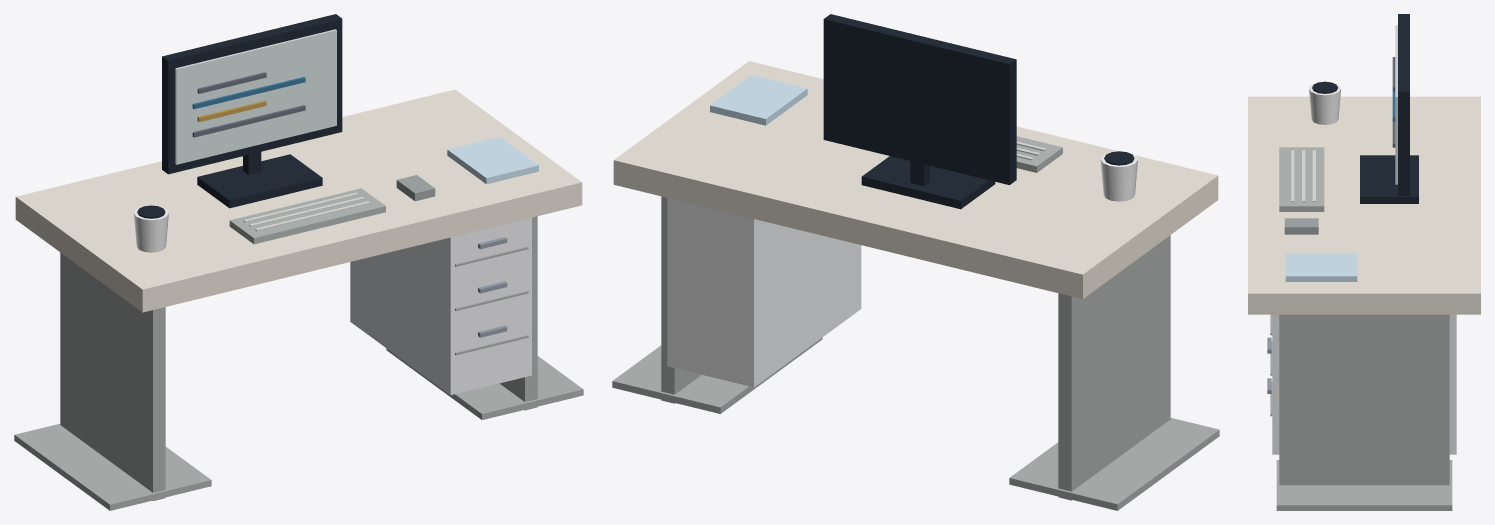
Rendered from desk.gltf.
3 renders of one model, left to right at view 1: azimuth 30°, elevation 25°; view 2: azimuth 150°, elevation 25°; view 3: azimuth 270°, elevation 25°, orthographic. The views are drawn at different scales.
Parts seen in each view (by area): view 1: zuri-desk-slot; view 2: zuri-desk-slot; view 3: zuri-desk-slot.
Part boxes in pixels (<box>): zuri-desk-slot: <box>14,14,583,510</box>; zuri-desk-slot: <box>612,14,1219,510</box>; zuri-desk-slot: <box>1248,14,1480,510</box>.
Bounding box in the file's own units: 2.8 × 2.11 × 1.3.
